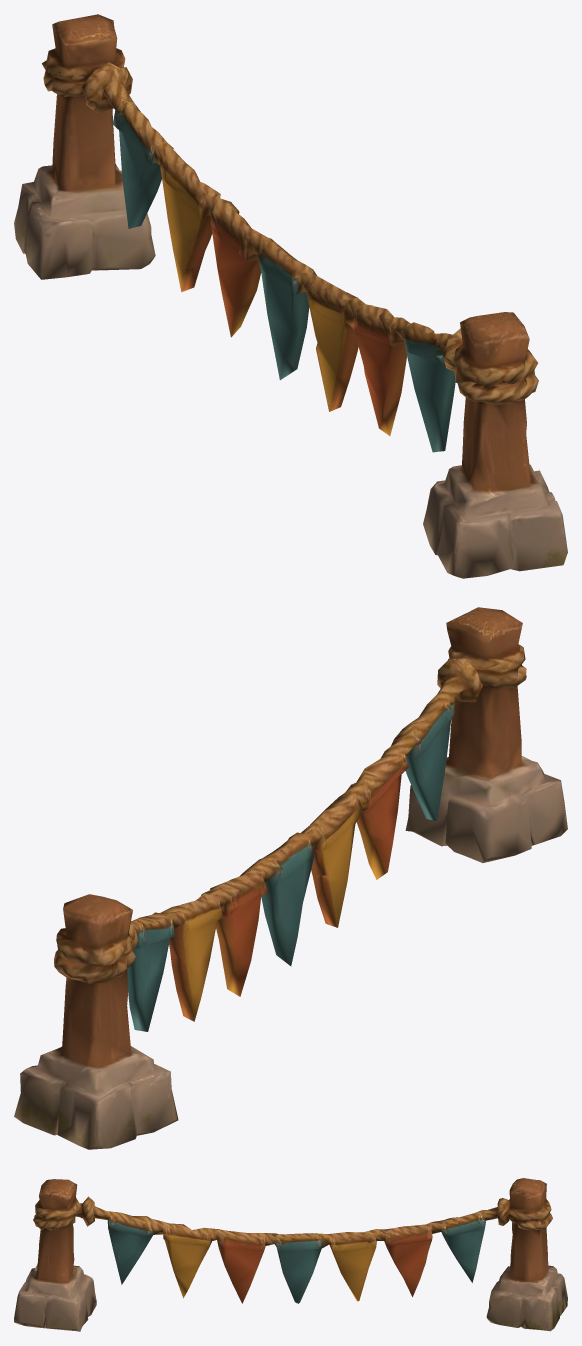
The model's file is model-prop-bunting-01.glb.
The picture shows the model from 3 angles, top to bottom: view 1: azimuth 30°, elevation 25°; view 2: azimuth 150°, elevation 25°; view 3: azimuth 270°, elevation 25°; orthographic projection. The views are drawn at different scales.
Visible parts, largest first — view 1: tripo_node_8fb65778-e6c5-468e-b9ab-aca397f69090; view 2: tripo_node_8fb65778-e6c5-468e-b9ab-aca397f69090; view 3: tripo_node_8fb65778-e6c5-468e-b9ab-aca397f69090.
Boxes of the visible parts, x1=… form: tripo_node_8fb65778-e6c5-468e-b9ab-aca397f69090: x1=14, y1=14, x2=567, y2=578; tripo_node_8fb65778-e6c5-468e-b9ab-aca397f69090: x1=14, y1=607, x2=567, y2=1149; tripo_node_8fb65778-e6c5-468e-b9ab-aca397f69090: x1=14, y1=1178, x2=567, y2=1331.
Bounding box in the file's own units: 0.7367 × 1.2 × 4.58.
1 material, 1 textured.
